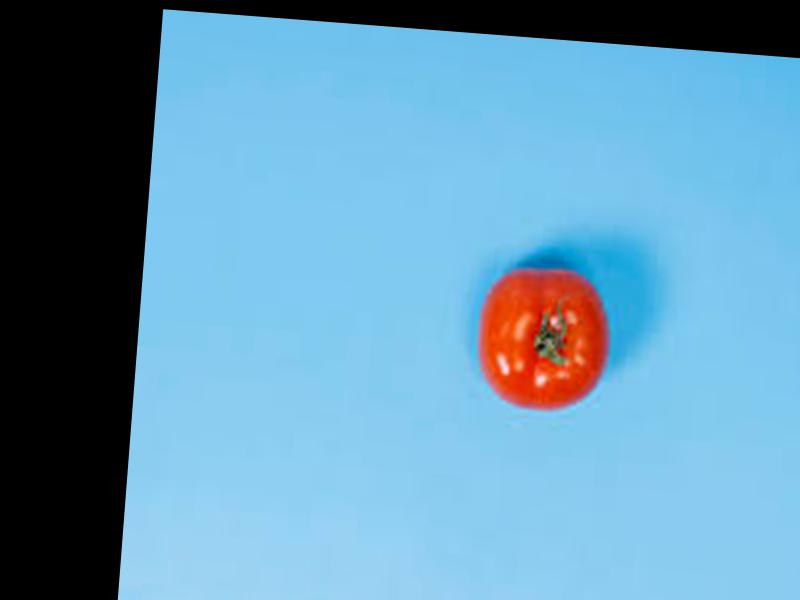Tomato: (474, 263, 618, 417)
